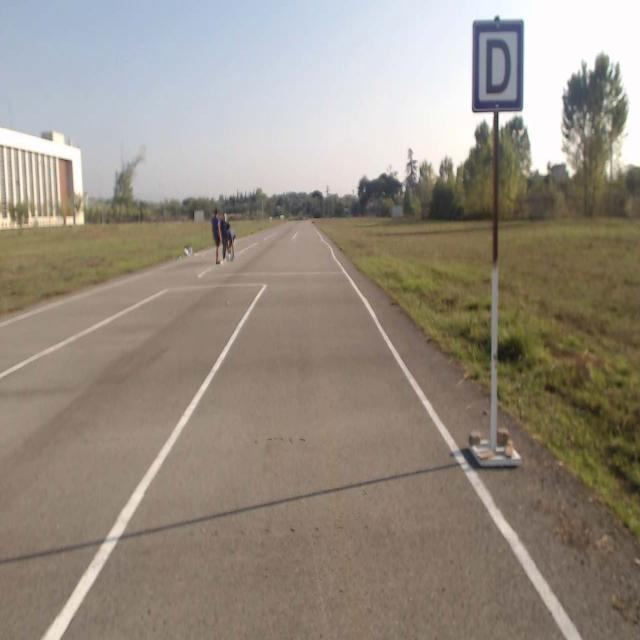durak: (474, 21, 524, 110)
